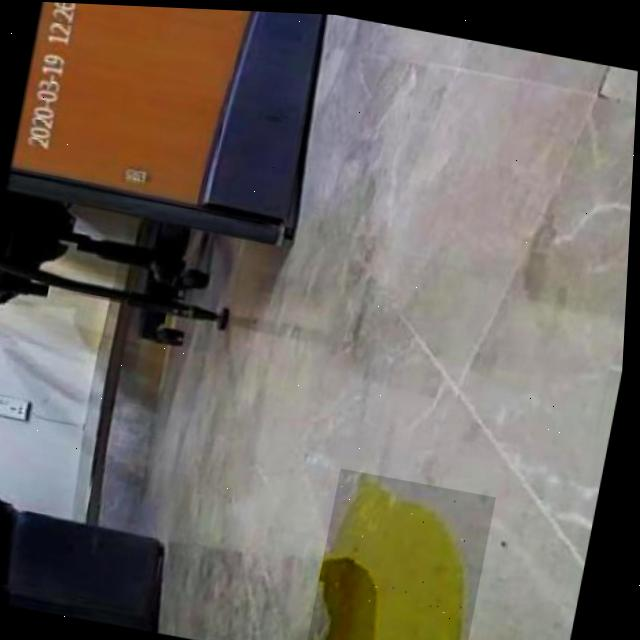spillage: (327, 469, 475, 640)
